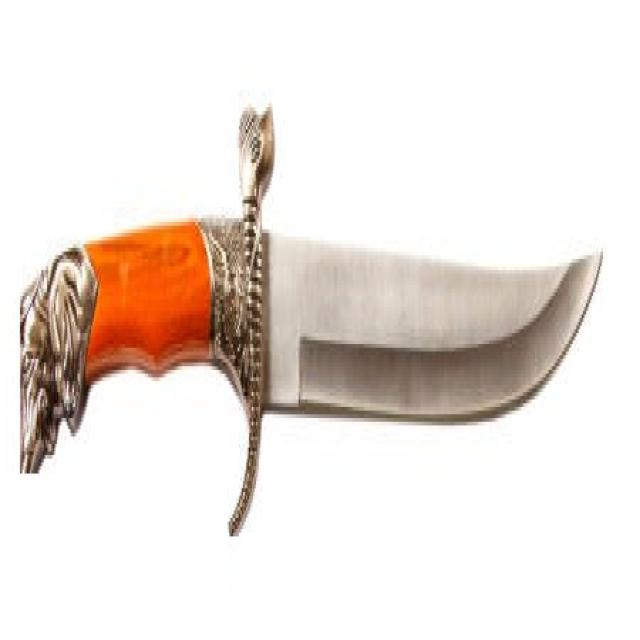knife: (16, 82, 604, 548)
